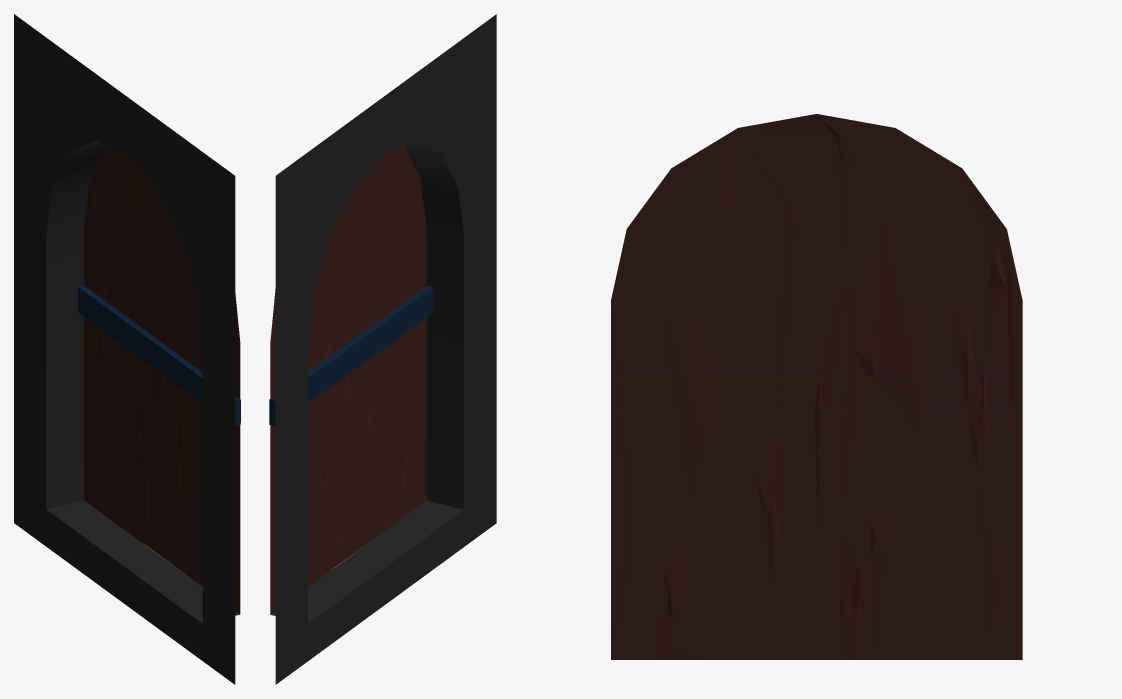
The model's file is standard_door_10.FBX.
3 renders of one model, left to right at view 1: azimuth 30°, elevation 25°; view 2: azimuth 150°, elevation 25°; view 3: azimuth 270°, elevation 25°, orthographic. The views are drawn at different scales.
Visible parts, largest first — view 1: standard_door_10; view 2: standard_door_10; view 3: standard_door_10.
Part boxes in pixels (x1,y1,x2,y2): standard_door_10: (14,14,240,684); standard_door_10: (269,14,496,684); standard_door_10: (611,114,1022,659).
Size of the model in its own units: 23.45 by 288 by 226.
